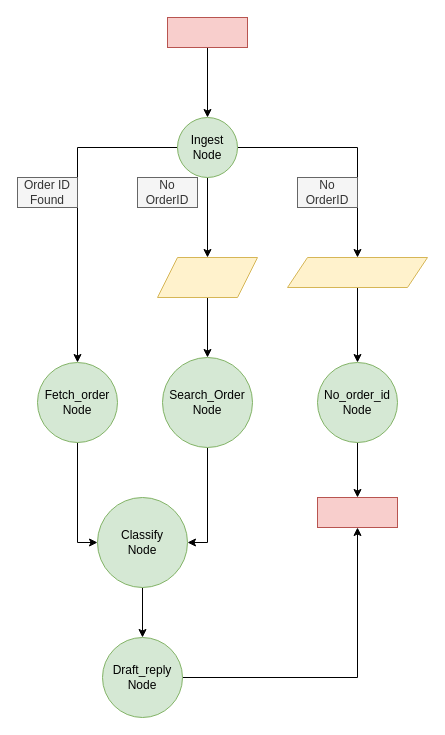
The diagram is 445 pixels wide and 735 high, and some of its shapes have lost their labels. Each missing label, with the centre of its shape:
"Email found" goes at point 207,277.
"END" goes at point 357,512.
"No Email Found" goes at point 357,272.
"START" goes at point 207,32.
